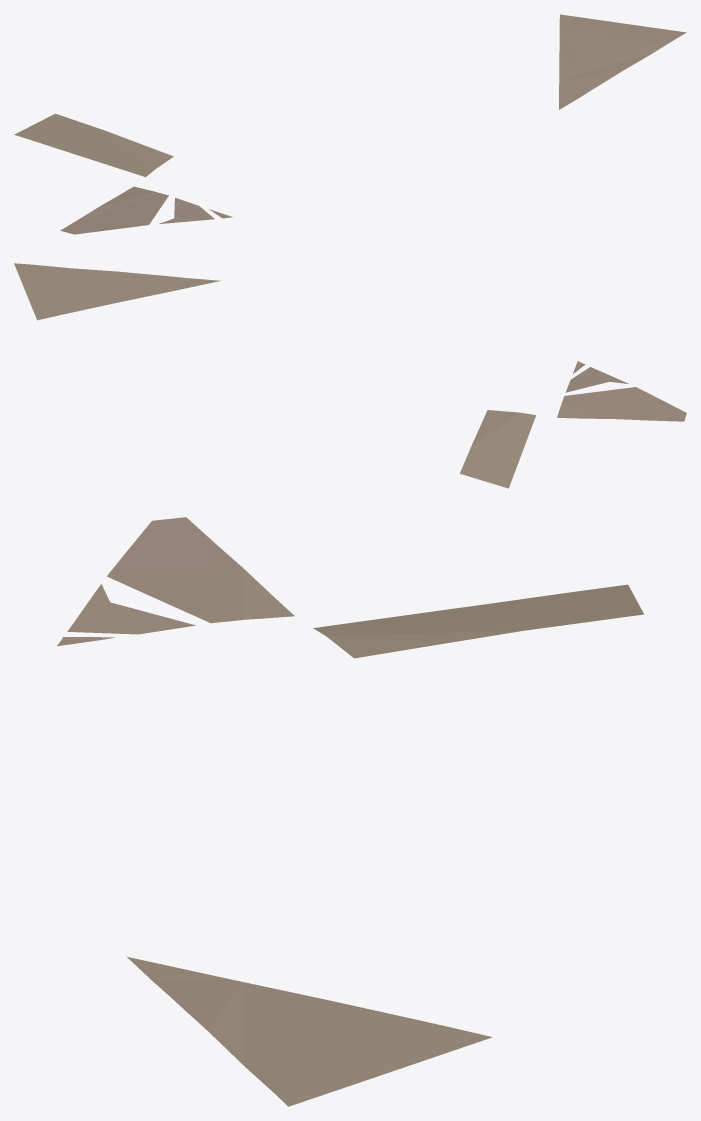
The model's file is farm_12_15_soil.glb.
3 renders of one model, top to bottom at view 1: azimuth 30°, elevation 25°; view 2: azimuth 150°, elevation 25°; view 3: azimuth 270°, elevation 25°, orthographic. The views are drawn at different scales.
Parts seen in each view (by area): view 1: geometry_0; view 2: geometry_0; view 3: geometry_0.
Part boxes in pixels (x1,y1,x2,y2): geometry_0: [14, 14, 686, 234]; geometry_0: [14, 263, 686, 488]; geometry_0: [57, 517, 643, 1106].
Size of the model in its own units: 274 by 8.84 by 108.
